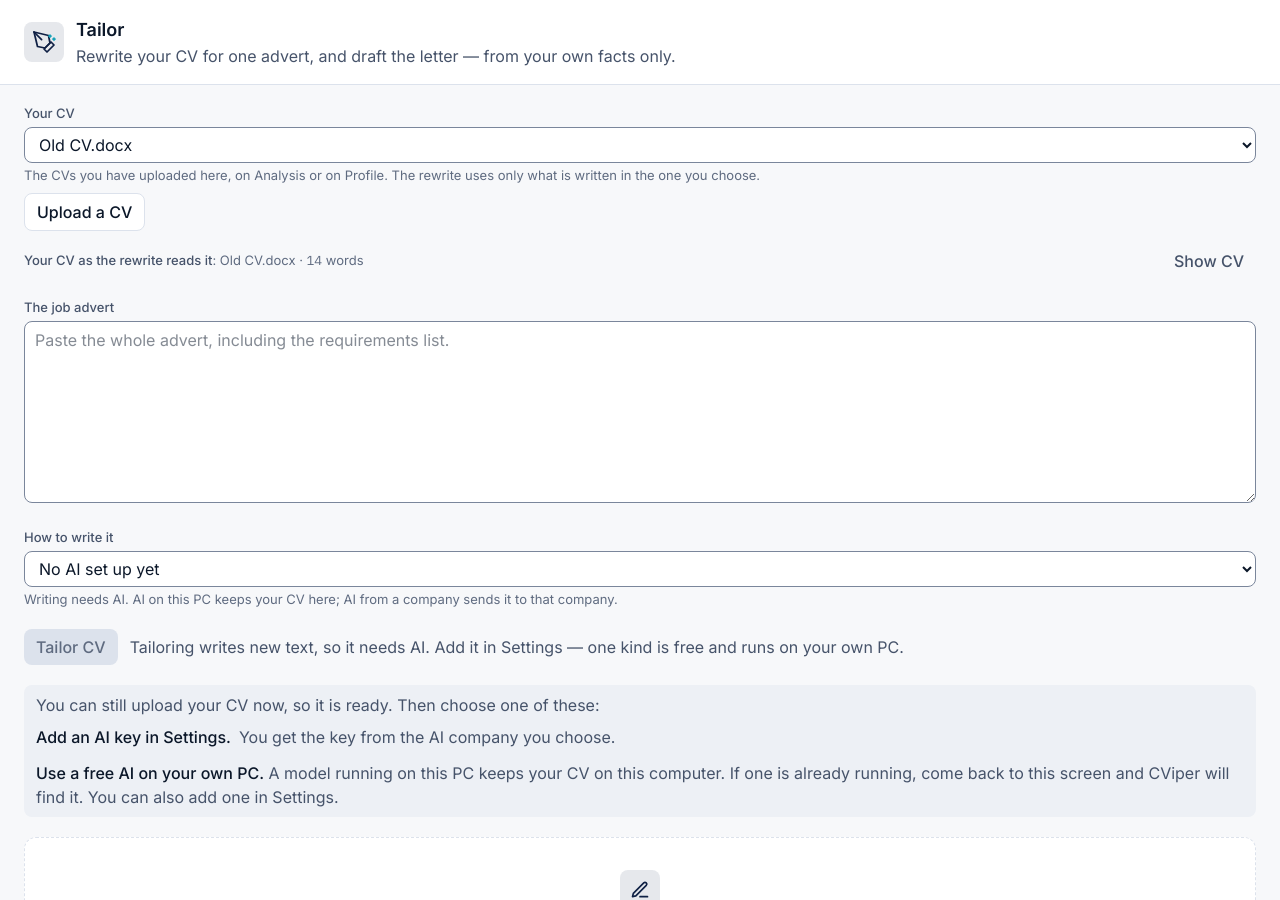
Test case: uploading a CV on Tailor › boundary: an empty file is refused in the parser’s words and the picker is unchanged
This screenshot has width=1280, height=900.
Expected: the dropdown showing "Old CV.docx" is shown, [24,127,1256,163]
What coordinates should you click on to do the following:
click the button with test id "tailor-upload"
I would click on:
 (85, 212)
Its box is [24,193,145,231].
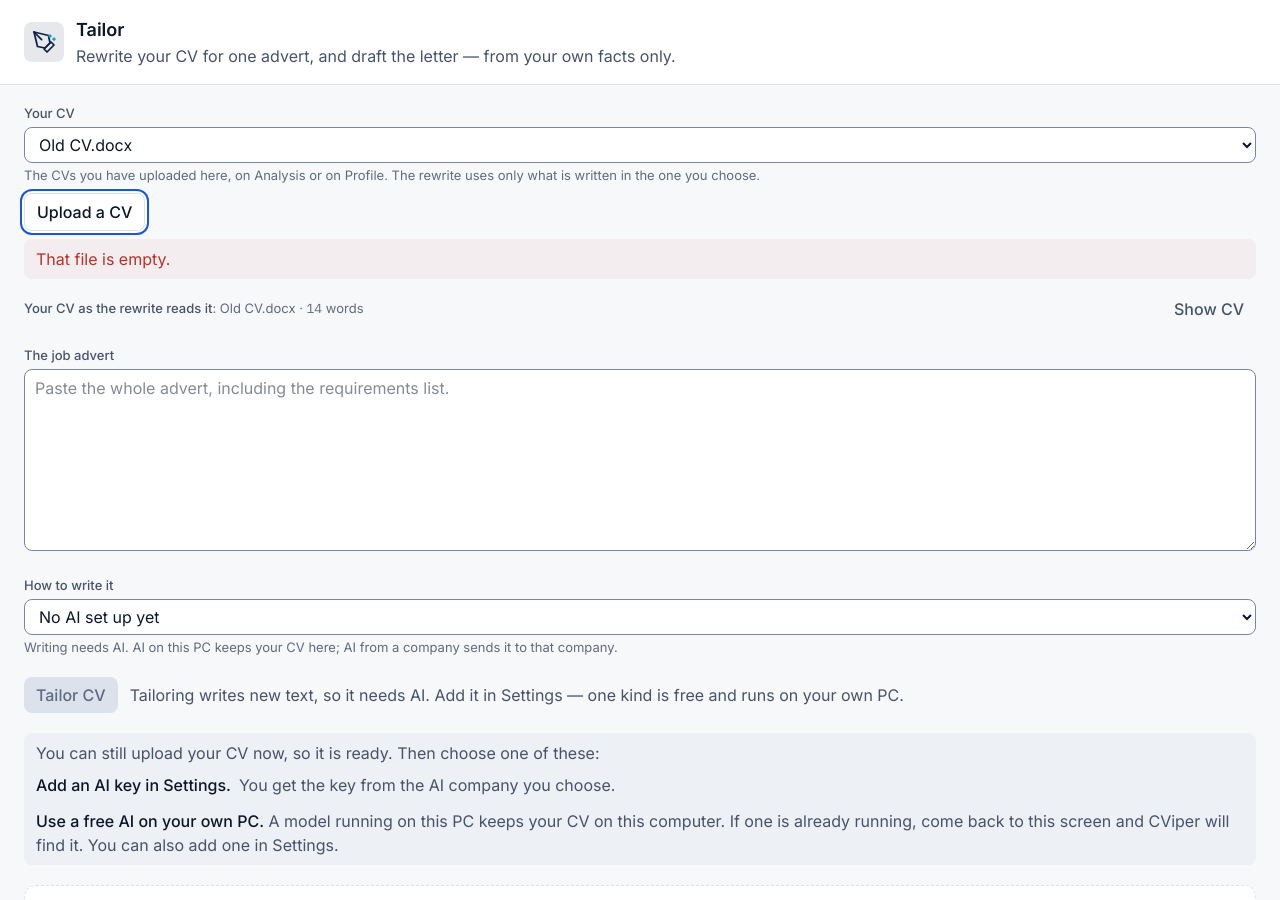
Expected: the dropdown showing "Old CV.docx" is shown, [24,127,1256,163]
Now the message with test id "tailor-upload-problem" reads "That file is empty.", box [36,249,170,269]
